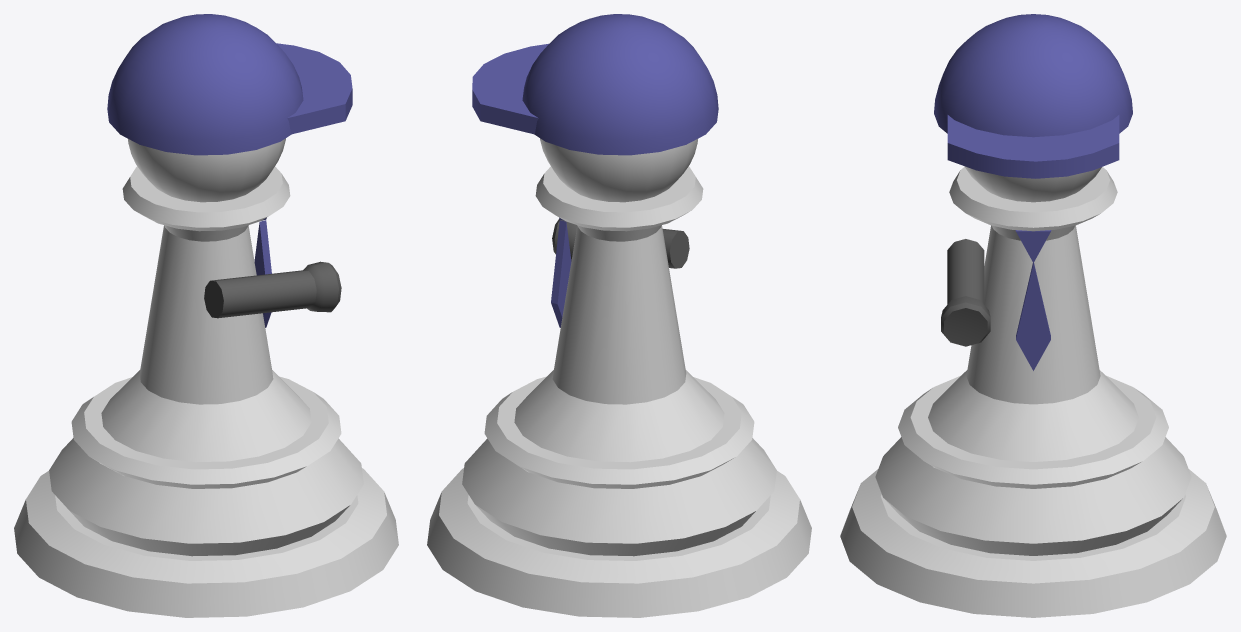
Rendered from Pawn(MODEL).fbx.
3 views of the same model, side by side, from view 1: azimuth 30°, elevation 25°; view 2: azimuth 150°, elevation 25°; view 3: azimuth 270°, elevation 25° (orthographic).
Visible parts, largest first — view 1: polySurface10, polySurface6, polySurface5, polySurface7, polySurface8, polySurface4, polySurface9, polySurface11, polySurface3, polySurface2; view 2: polySurface10, polySurface6, polySurface5, polySurface7, polySurface8, polySurface4, polySurface9, polySurface3, polySurface2, polySurface11; view 3: polySurface10, polySurface6, polySurface7, polySurface5, polySurface8, polySurface3, polySurface9, polySurface11, polySurface4, polySurface2, polySurface1.
Part boxes in pixels (x1=…): polySurface10: x1=101, y1=225, x2=311, y2=462; polySurface6: x1=14, y1=463, x2=398, y2=617; polySurface5: x1=107, y1=14, x2=303, y2=155; polySurface7: x1=49, y1=438, x2=363, y2=556; polySurface8: x1=71, y1=376, x2=341, y2=488; polySurface4: x1=128, y1=138, x2=285, y2=202; polySurface9: x1=122, y1=166, x2=290, y2=231; polySurface11: x1=204, y1=261, x2=341, y2=318; polySurface3: x1=276, y1=43, x2=352, y2=134; polySurface2: x1=254, y1=220, x2=271, y2=327; polySurface10: x1=514, y1=225, x2=724, y2=462; polySurface6: x1=427, y1=463, x2=811, y2=617; polySurface5: x1=522, y1=14, x2=718, y2=155; polySurface7: x1=462, y1=438, x2=776, y2=556; polySurface8: x1=484, y1=376, x2=754, y2=488; polySurface4: x1=540, y1=138, x2=697, y2=202; polySurface9: x1=535, y1=166, x2=703, y2=231; polySurface3: x1=472, y1=43, x2=548, y2=134; polySurface2: x1=551, y1=220, x2=571, y2=327; polySurface11: x1=552, y1=219, x2=689, y2=268; polySurface10: x1=928, y1=225, x2=1138, y2=461; polySurface6: x1=840, y1=467, x2=1226, y2=617; polySurface7: x1=875, y1=437, x2=1191, y2=555; polySurface5: x1=934, y1=14, x2=1132, y2=137; polySurface8: x1=898, y1=375, x2=1168, y2=488; polySurface3: x1=947, y1=115, x2=1119, y2=178; polySurface9: x1=949, y1=167, x2=1117, y2=231; polySurface11: x1=941, y1=239, x2=990, y2=346; polySurface4: x1=964, y1=166, x2=1101, y2=202; polySurface2: x1=1016, y1=262, x2=1050, y2=370; polySurface1: x1=1015, y1=230, x2=1051, y2=262.
Bounding box in the file's own units: 2.25 × 3.29 × 2.25.
